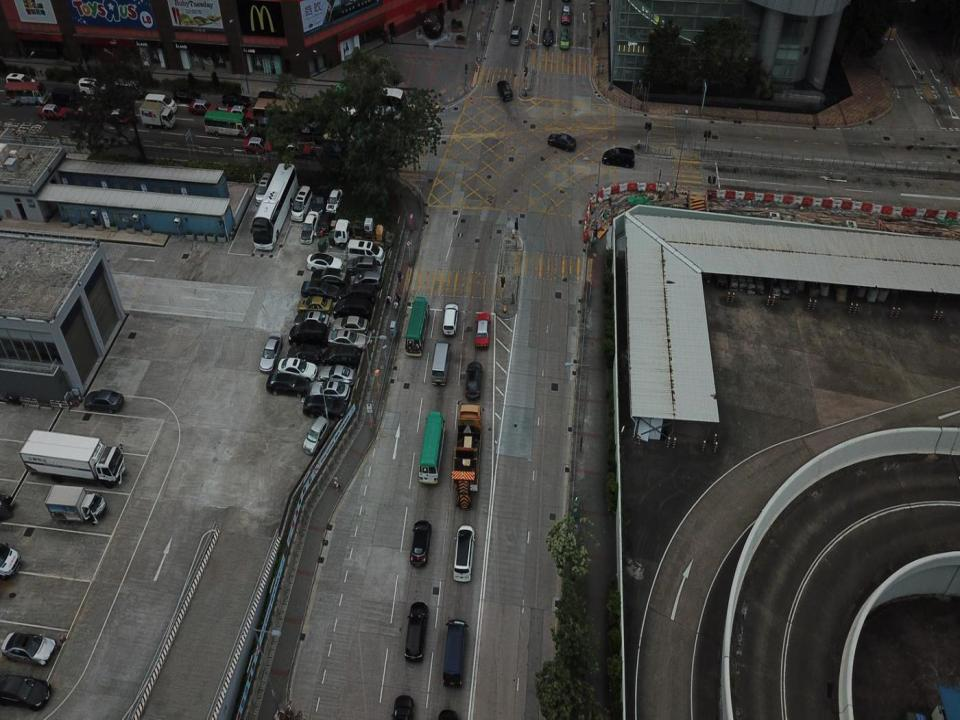bus: (249, 161, 299, 251), (327, 79, 409, 127), (252, 95, 336, 140), (418, 410, 445, 487), (404, 294, 431, 358), (204, 110, 249, 136), (3, 80, 48, 106)
car: (0, 672, 53, 711), (2, 631, 56, 666), (333, 216, 388, 250), (405, 600, 430, 664), (453, 523, 475, 583), (266, 370, 309, 398), (302, 393, 346, 420), (302, 415, 329, 456), (84, 390, 124, 417), (347, 238, 384, 267), (277, 355, 318, 381), (308, 377, 352, 401), (410, 519, 431, 569), (259, 332, 283, 372), (288, 320, 328, 344), (333, 294, 373, 318), (326, 327, 367, 348), (300, 277, 340, 298), (322, 344, 360, 366), (293, 310, 330, 332), (330, 314, 370, 334), (290, 183, 311, 221), (317, 364, 356, 384), (288, 342, 323, 364), (298, 209, 320, 244), (473, 310, 492, 350), (602, 146, 635, 169), (297, 294, 333, 315), (344, 256, 380, 277), (464, 361, 483, 400), (306, 252, 343, 272), (241, 134, 278, 154), (546, 132, 578, 152), (226, 103, 256, 124), (5, 72, 36, 92), (310, 267, 346, 284), (79, 75, 105, 98), (442, 302, 460, 335), (188, 98, 219, 116), (353, 270, 383, 288), (38, 102, 66, 121), (496, 79, 513, 103), (326, 186, 341, 213), (558, 26, 571, 50), (509, 25, 523, 44), (542, 26, 554, 48), (560, 4, 571, 25)
truck: (19, 427, 126, 487), (450, 398, 483, 510), (45, 478, 107, 526), (138, 98, 175, 129)
van: (442, 617, 468, 690), (430, 340, 453, 387), (145, 92, 176, 114), (253, 172, 272, 207), (112, 78, 142, 98)
